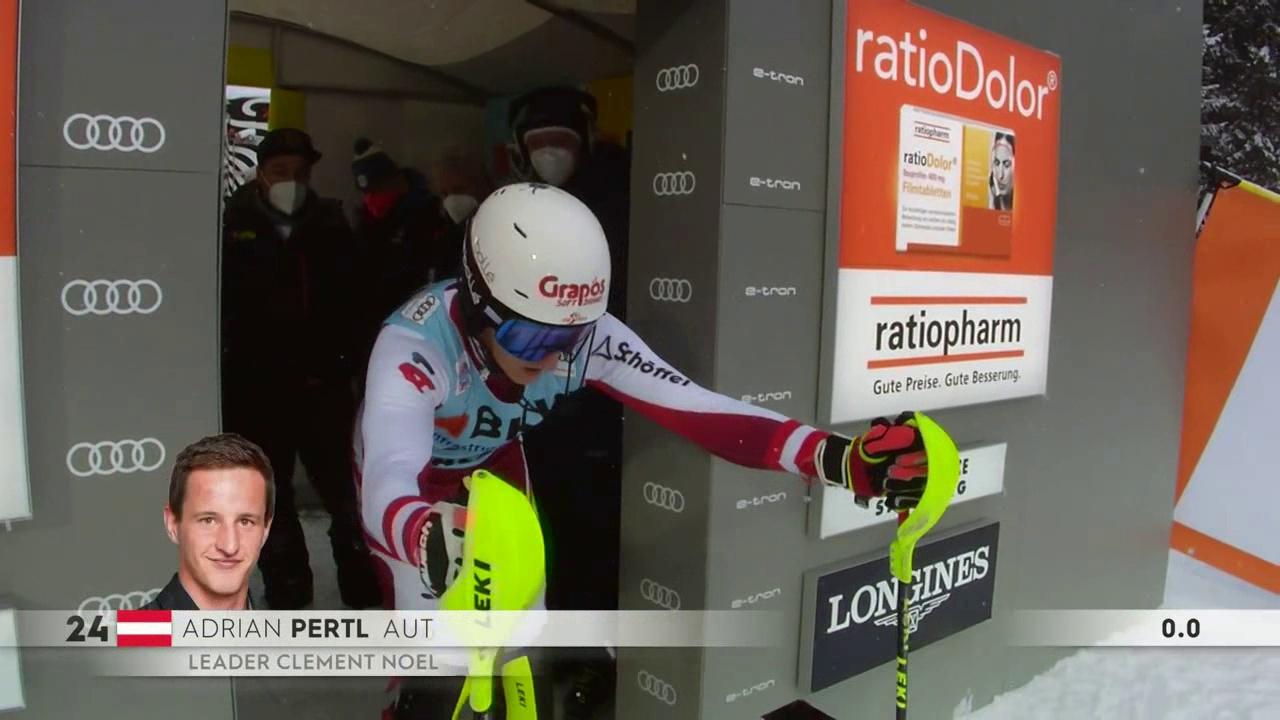a1: (396, 350, 442, 398)
audi: (58, 112, 169, 161), (56, 278, 167, 325), (61, 438, 168, 484), (640, 481, 690, 519), (633, 671, 682, 709), (653, 64, 704, 99), (638, 578, 687, 614), (645, 278, 697, 310), (650, 171, 701, 202)
etron: (722, 677, 777, 707), (728, 583, 784, 611), (732, 490, 790, 515), (754, 64, 806, 90), (741, 280, 801, 302), (749, 176, 805, 194), (745, 388, 796, 403)
longines: (824, 538, 1000, 659)
ratiopharm: (860, 285, 1029, 413)
